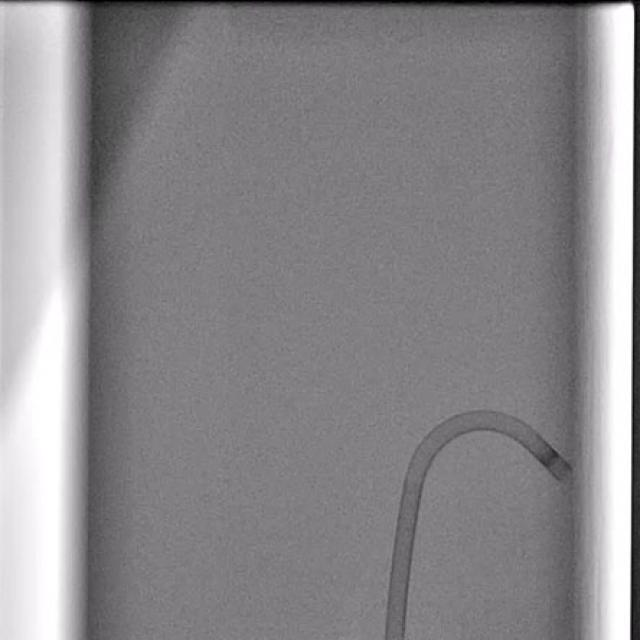bend: (406, 469, 424, 484)
entry: (386, 636, 404, 640)
marker: (538, 450, 561, 468)
tip: (559, 469, 574, 482)
